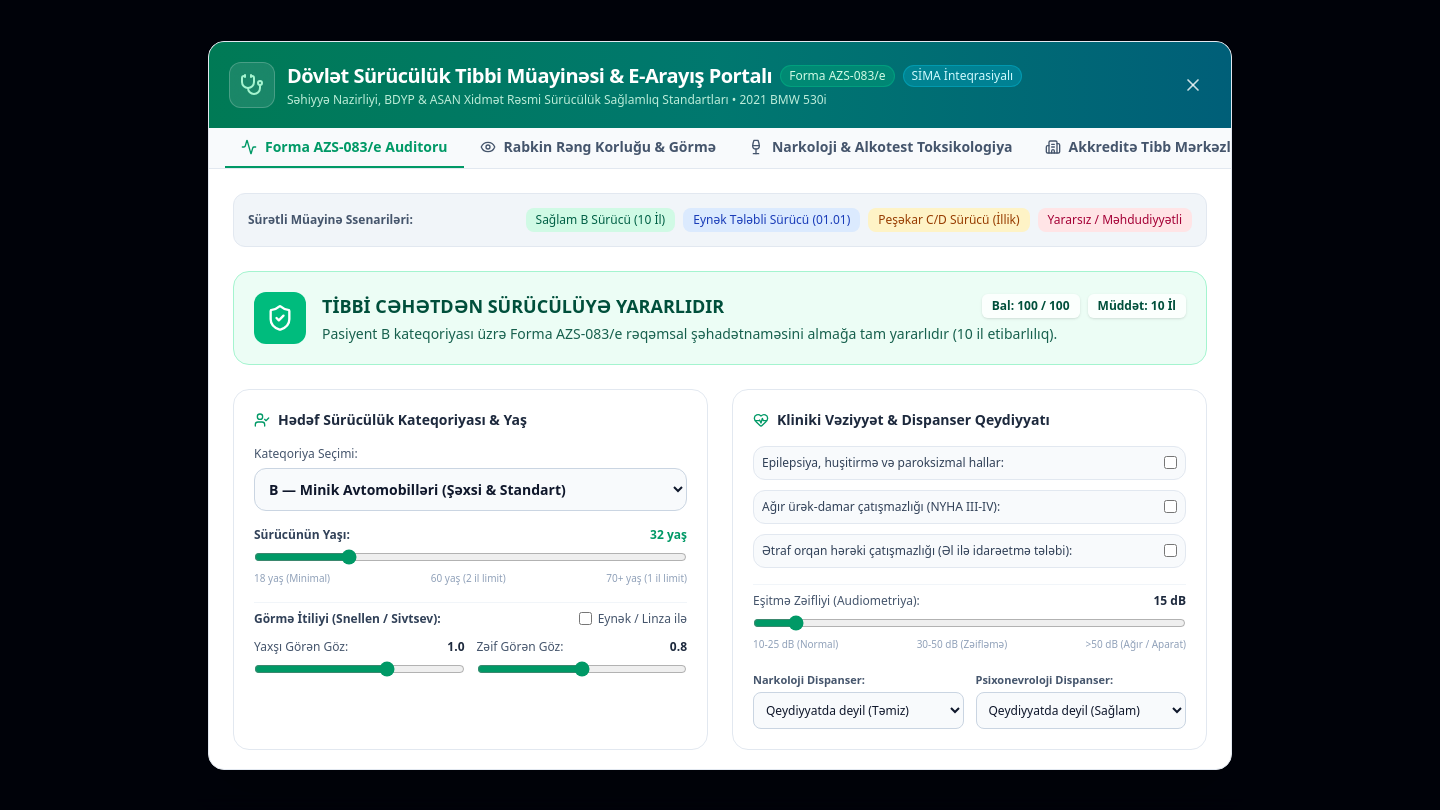
DriverMedicalModal Component › interacts with BAC slider, test refusal, and dispensary FIN search
Click the button with test id "tab-btn-sobriety": [880, 148] box [732,128,1028,168]
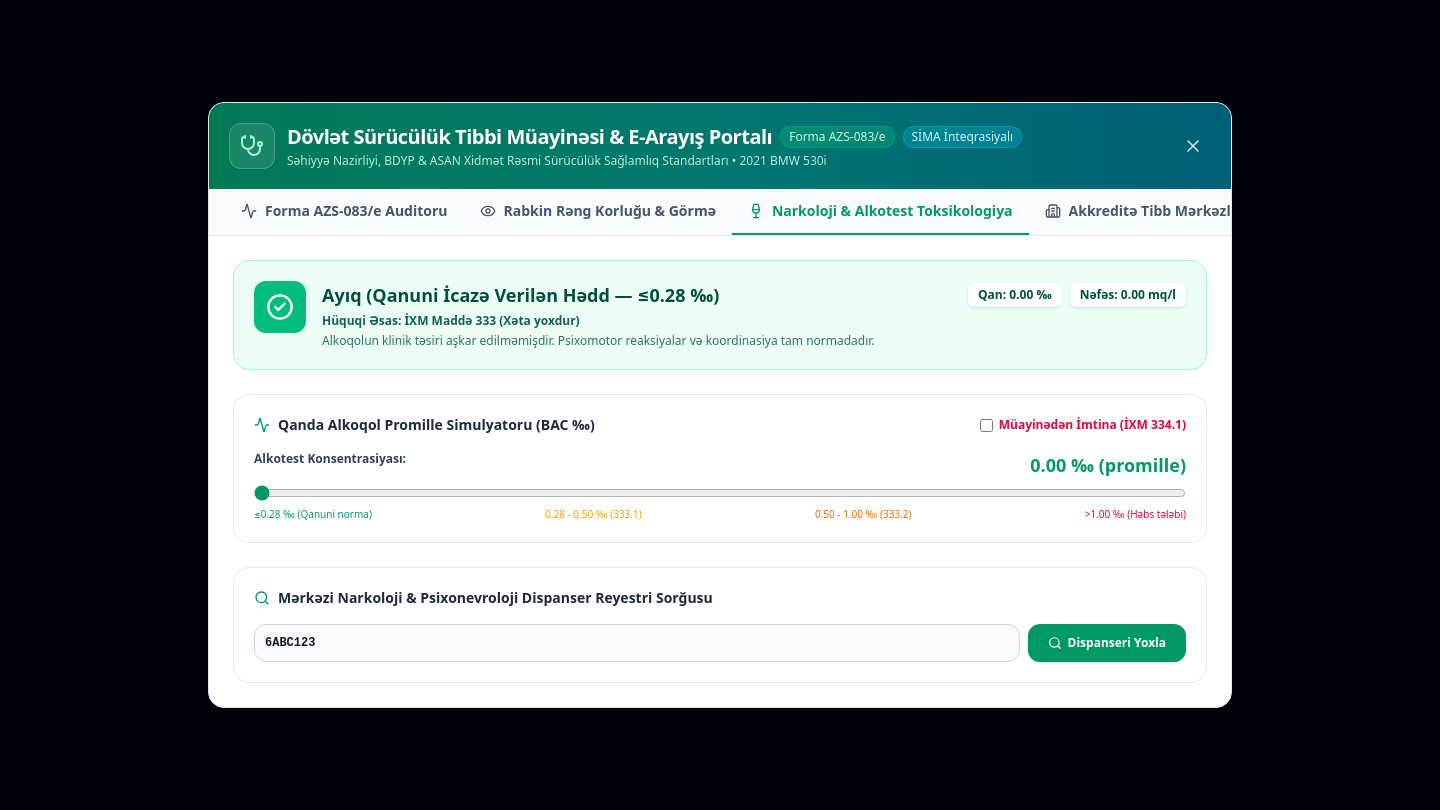
Expected: the heading with test id "bac-status-badge" shows "Ayıq", [322,283,719,307]
Note: Change BAC slider to 0.45 ‰
Set the slider with test id "bac-slider" to "0.45": [427, 493] box [254,485,1186,501]
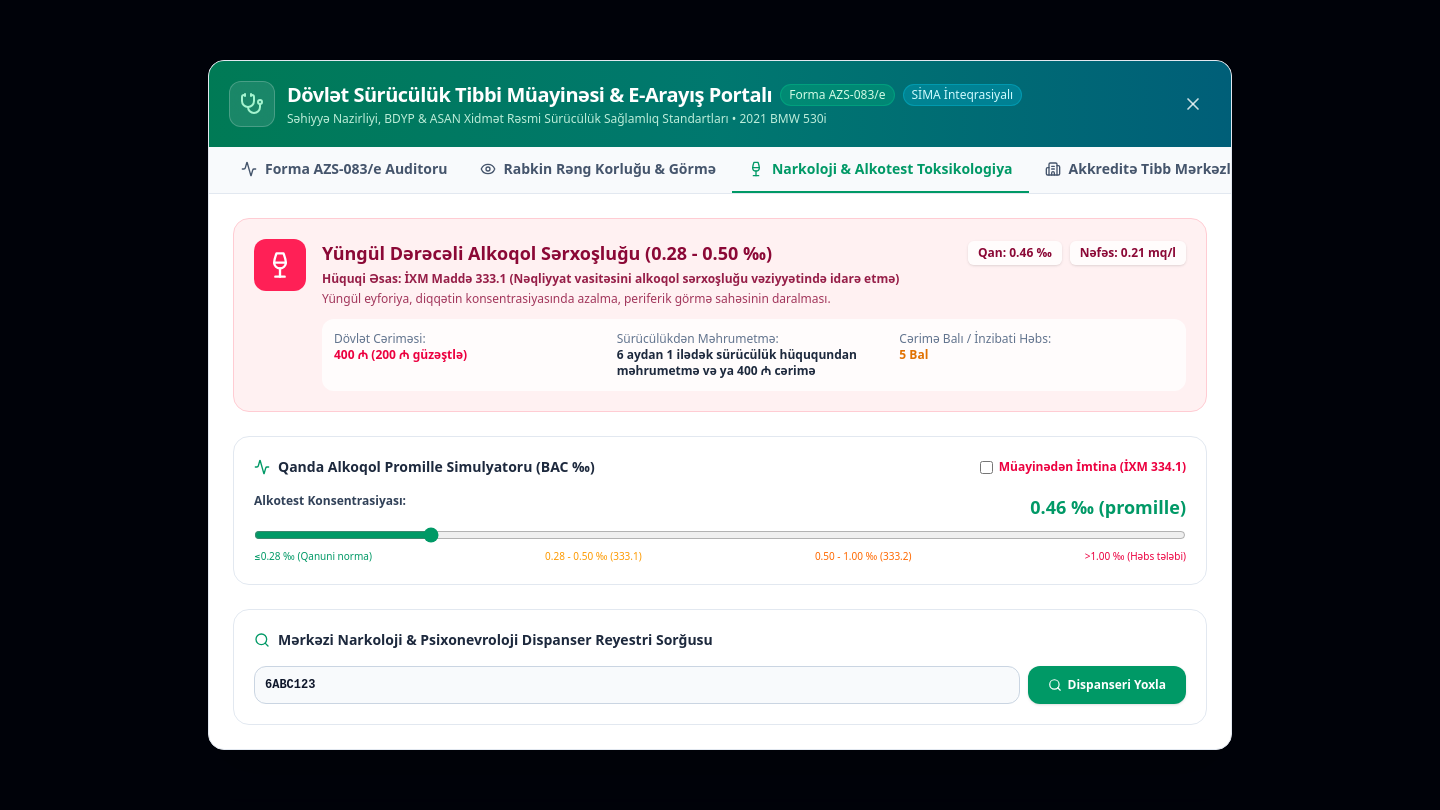
Expected: the heading with test id "bac-status-badge" shows "Yüngül Dərəcəli", [322,241,772,265]
Note: Dispensary query
Replace the text in the field with test id "dispensary-fin-input" with "5MNK456": [637, 685] box [254,666,1020,704]
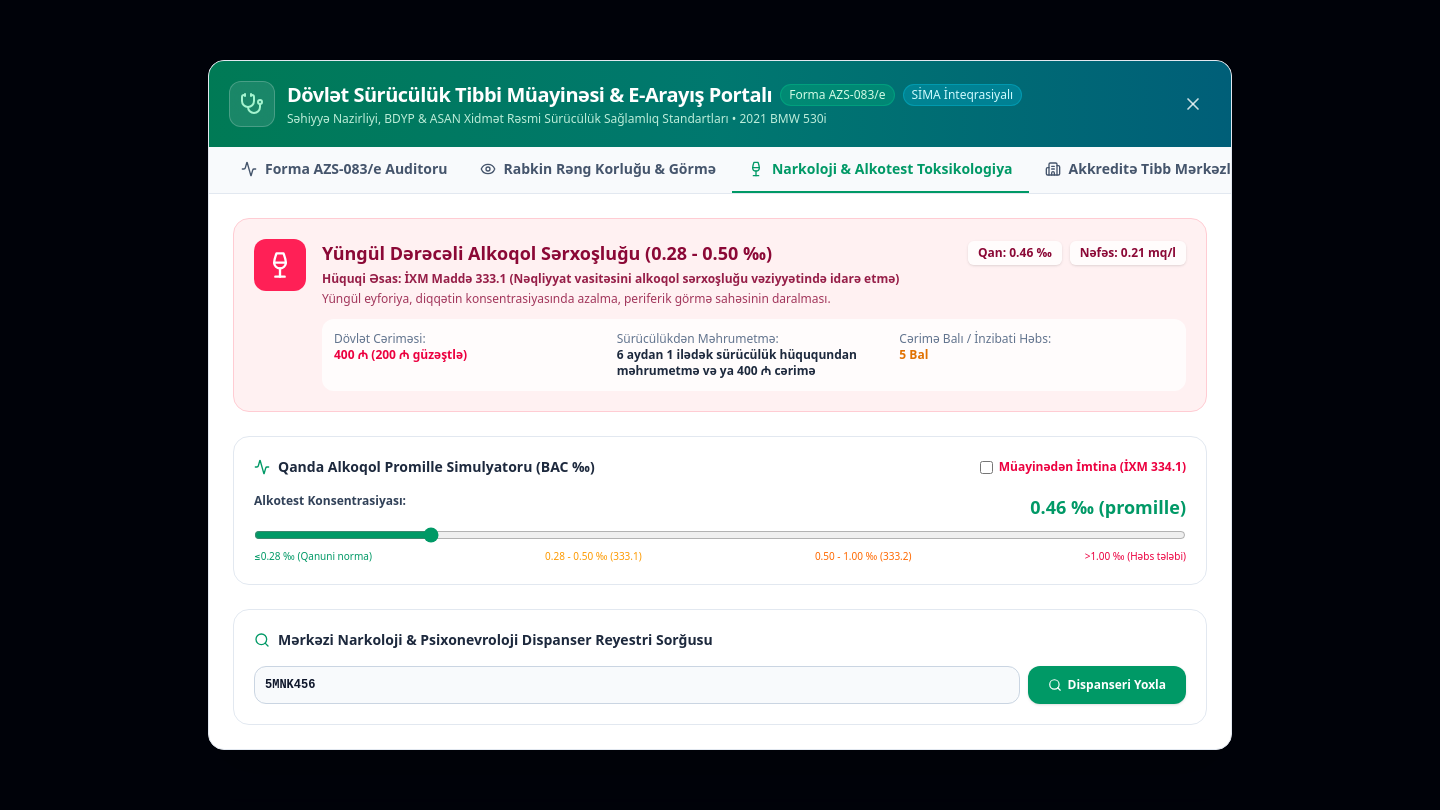
Click the button with test id "dispensary-check-btn": [1107, 685] box [1028,666,1186,704]
(page scrolled)
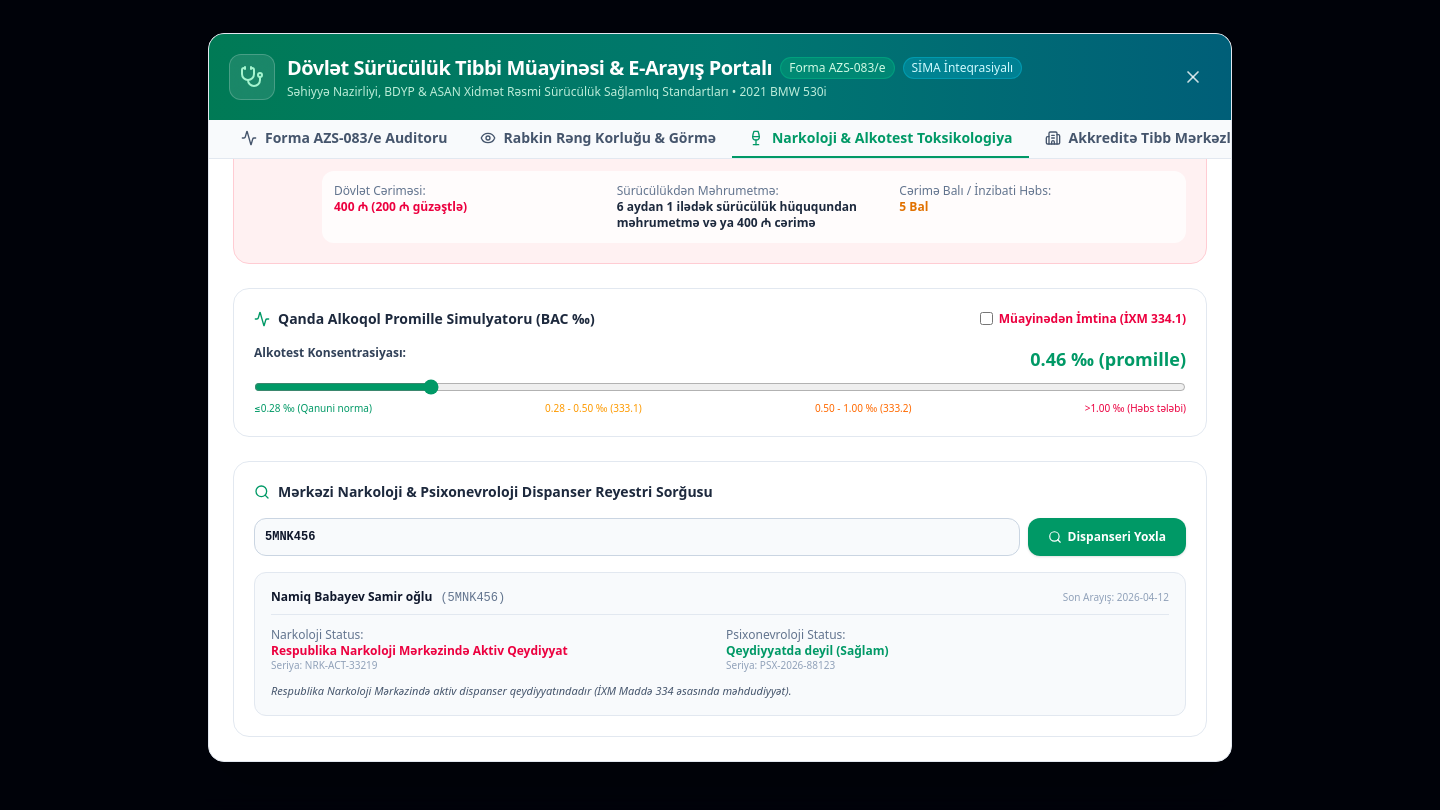
Expected: the element with test id "dispensary-result-box" is shown, [254,572,1186,716]
Expected: the element with test id "dispensary-result-box" shows "Namiq Babayev", [271,588,432,605]
